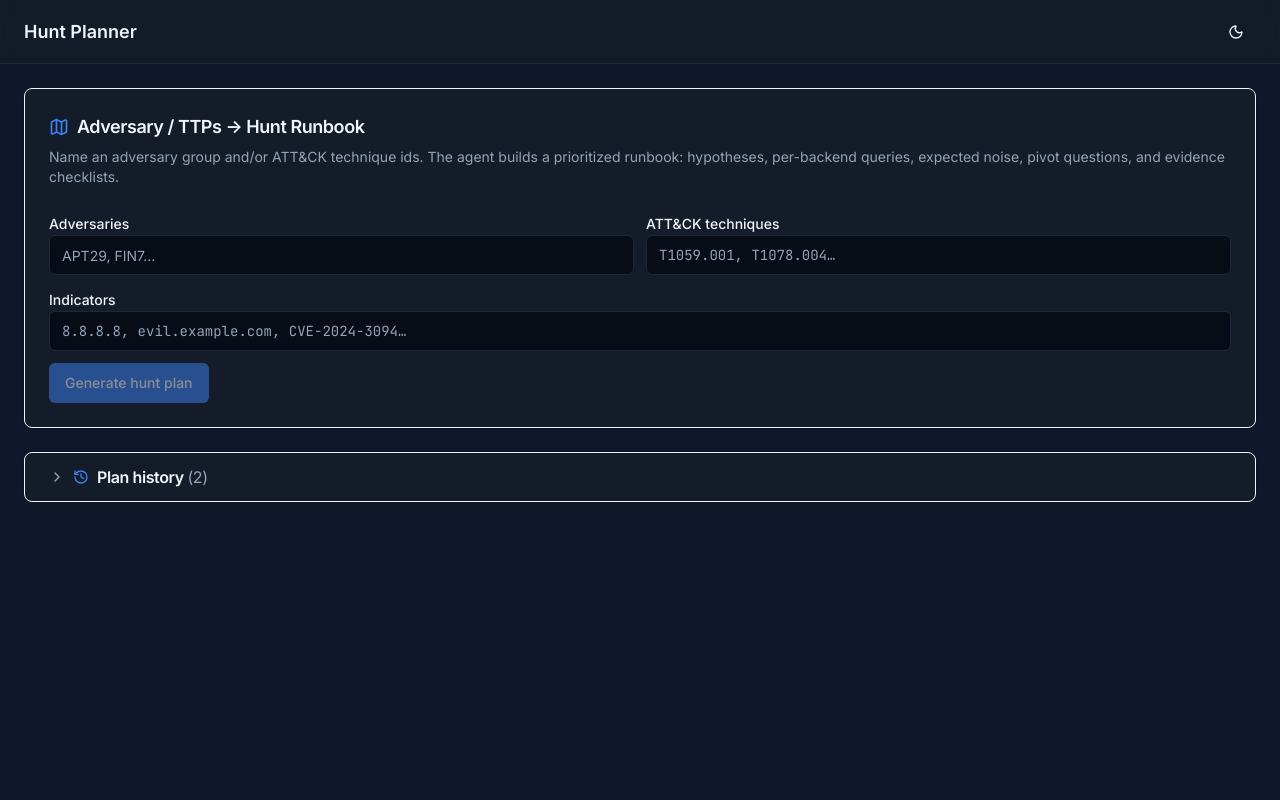
Scenario: HuntPlanPage plan history › renders stored summaries with labels, counts, and proposal badge
The width and height of the screenshot is (1280, 800).
Click the button with test id "plan-history-toggle".
click(140, 477)  # box [49,465,1231,489]
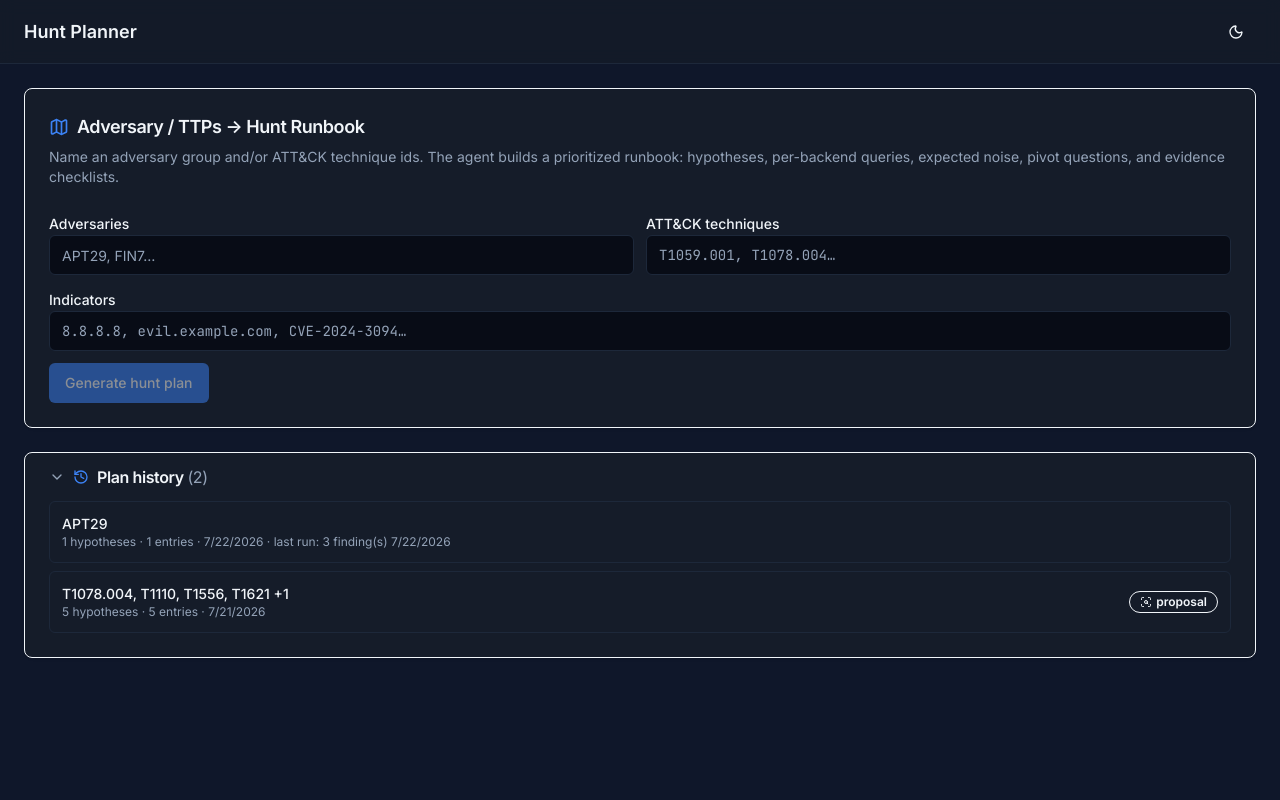
Result: the text "APT29" is shown at [62,515,108,532]
Result: the text "T1078.004, T1110, T1556, T1621 +1" is shown at [62,584,289,604]
Result: the text "1 hypotheses · 1 entries" is shown at [62,534,451,550]
